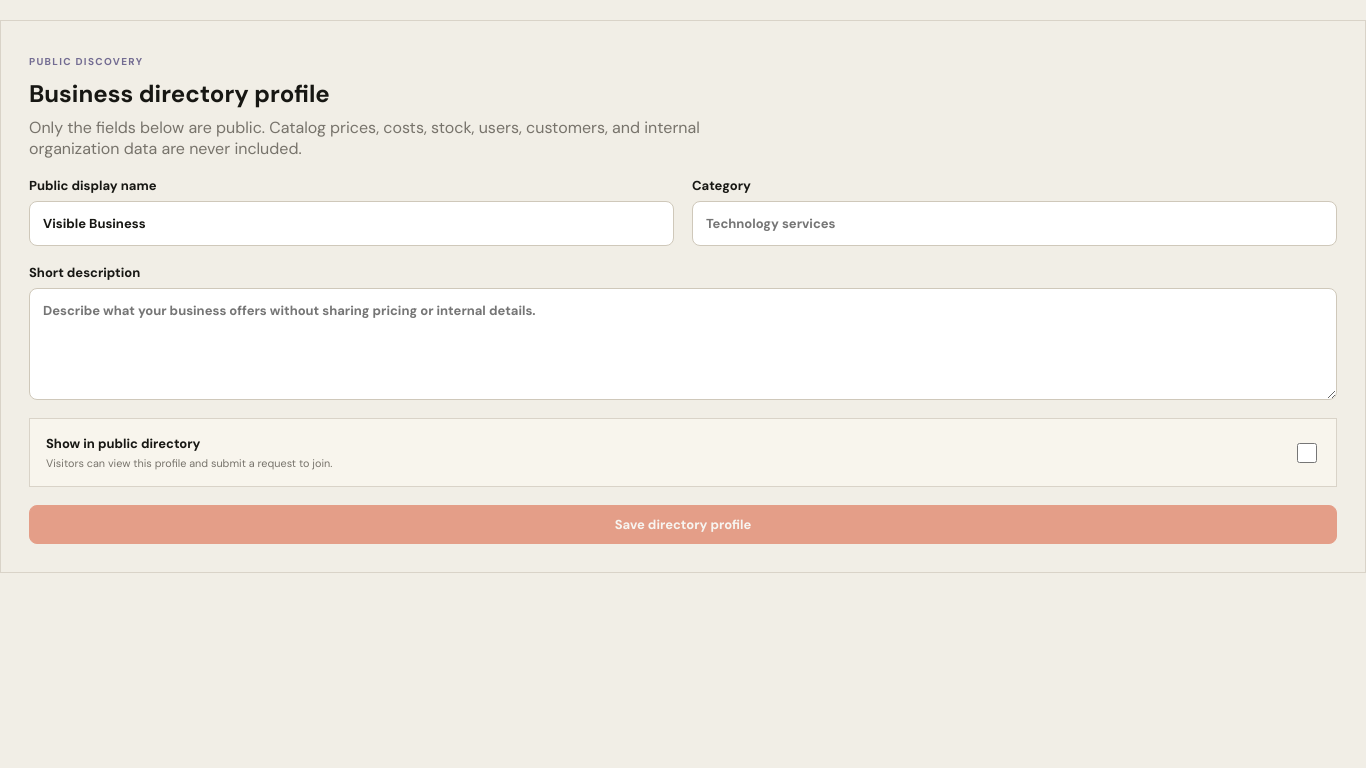
Test: business directory › allows an Admin to publish an allowlisted directory profile
The width and height of the screenshot is (1366, 768).
Step 1. Click the checkbox labelled "Show in public directory" → (1307, 452), box [1297,442,1317,462]
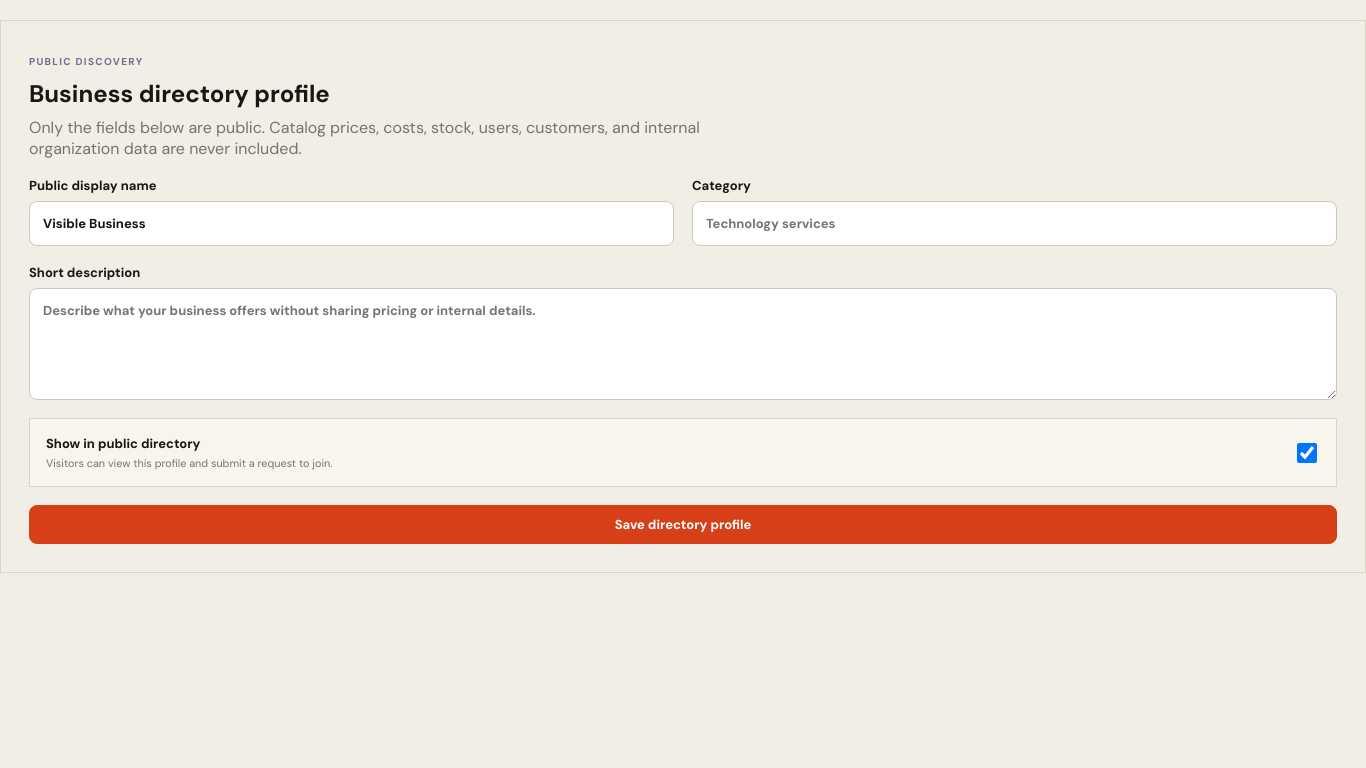
Step 2. Click the button "Save directory profile" → (683, 524), box [29,505,1337,544]
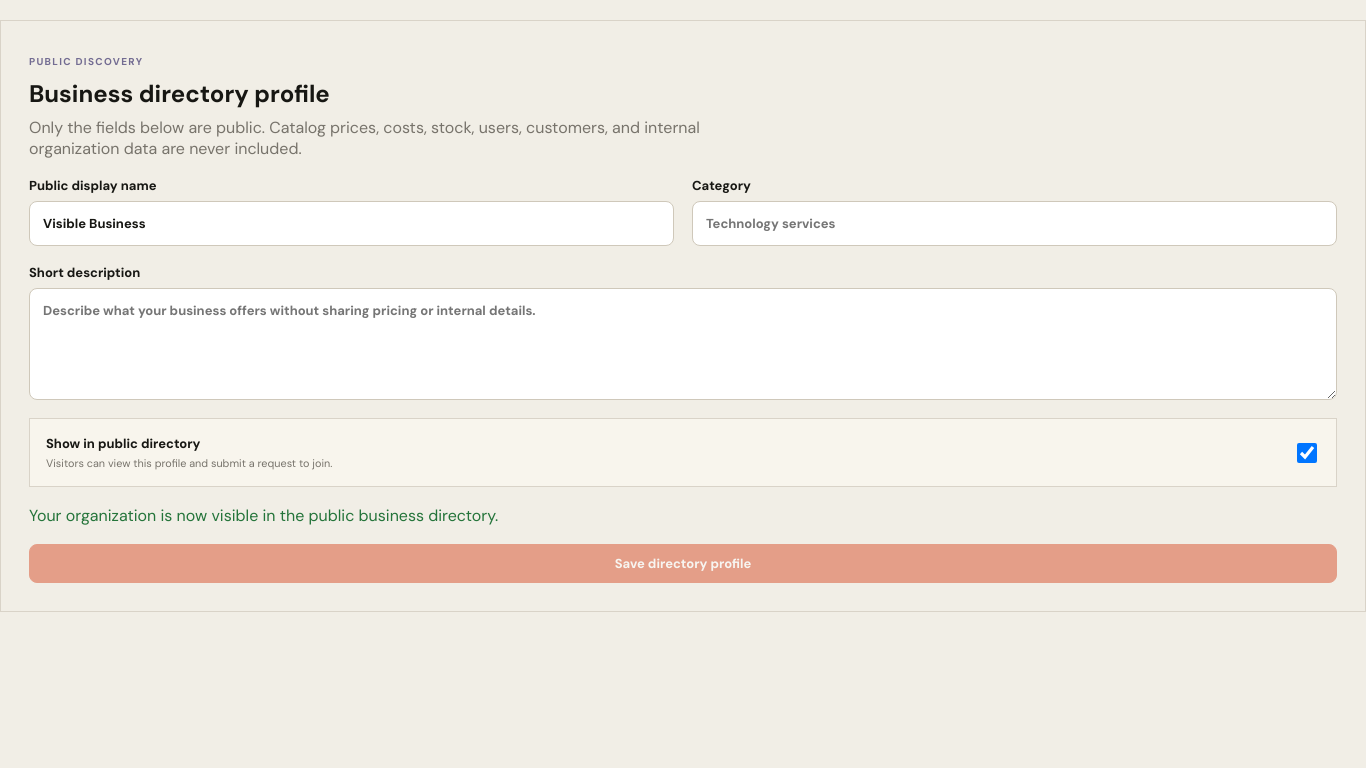
expect the text "Your organization is now visible in the public business directory." is shown: met, box [29,505,498,526]
